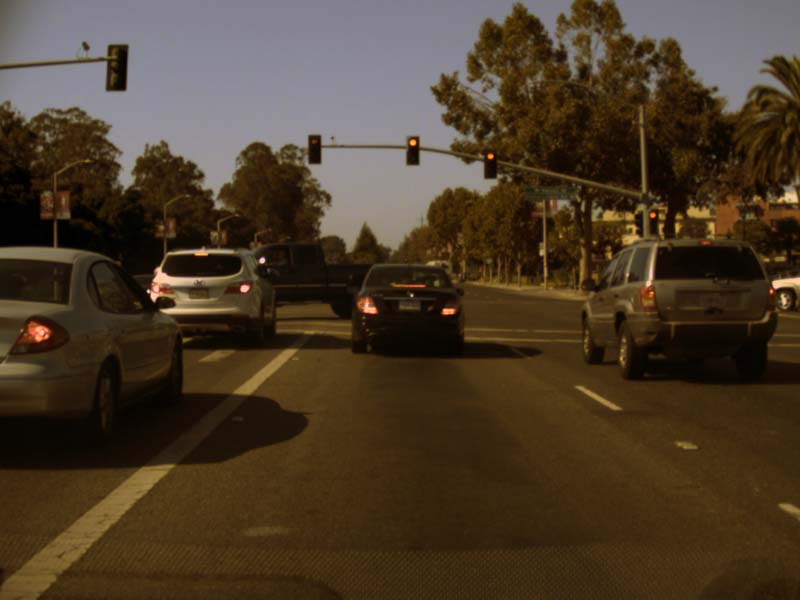Red: (483, 149, 496, 178), (406, 136, 419, 164), (308, 134, 320, 163), (648, 208, 658, 235)
